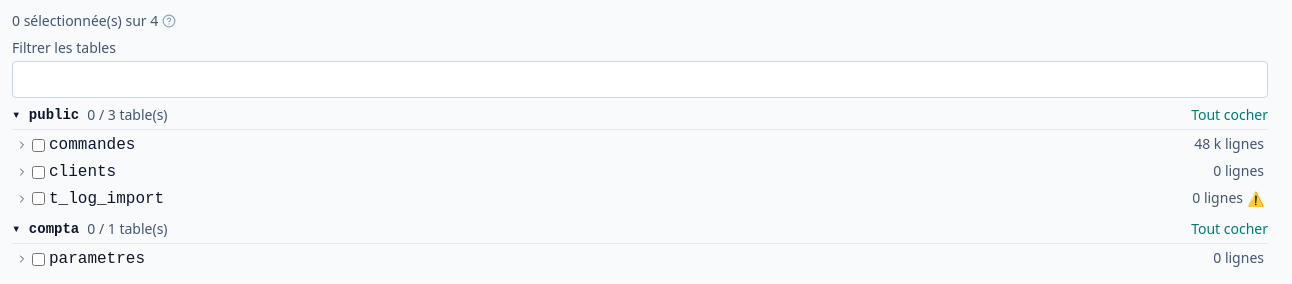
it: TableTree › annonce qu’aucune table ne correspond
Type "introuvable" into the field labelled "Filtrer les tables" at (640, 80), box [12, 61, 1268, 98]
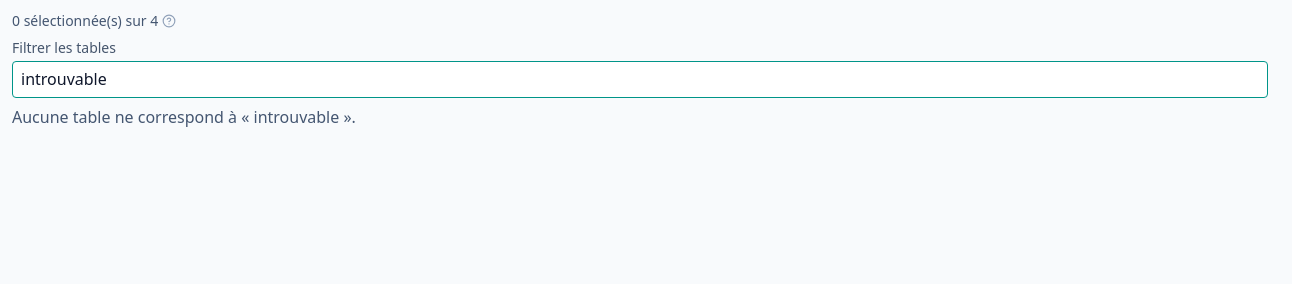
Now the text "Aucune table ne correspond à « introuvable »." is shown, box [12, 106, 356, 128]
